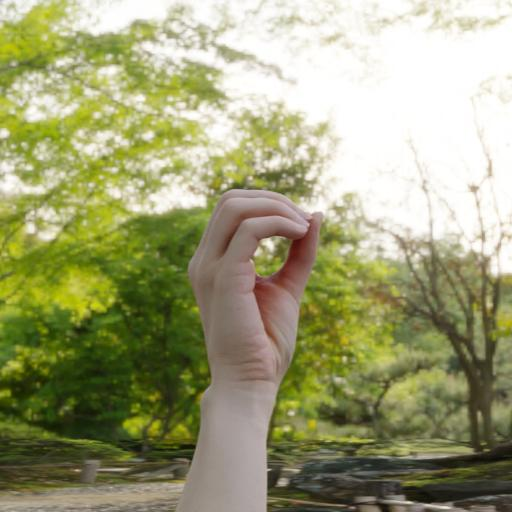O: (180, 179, 332, 420)
